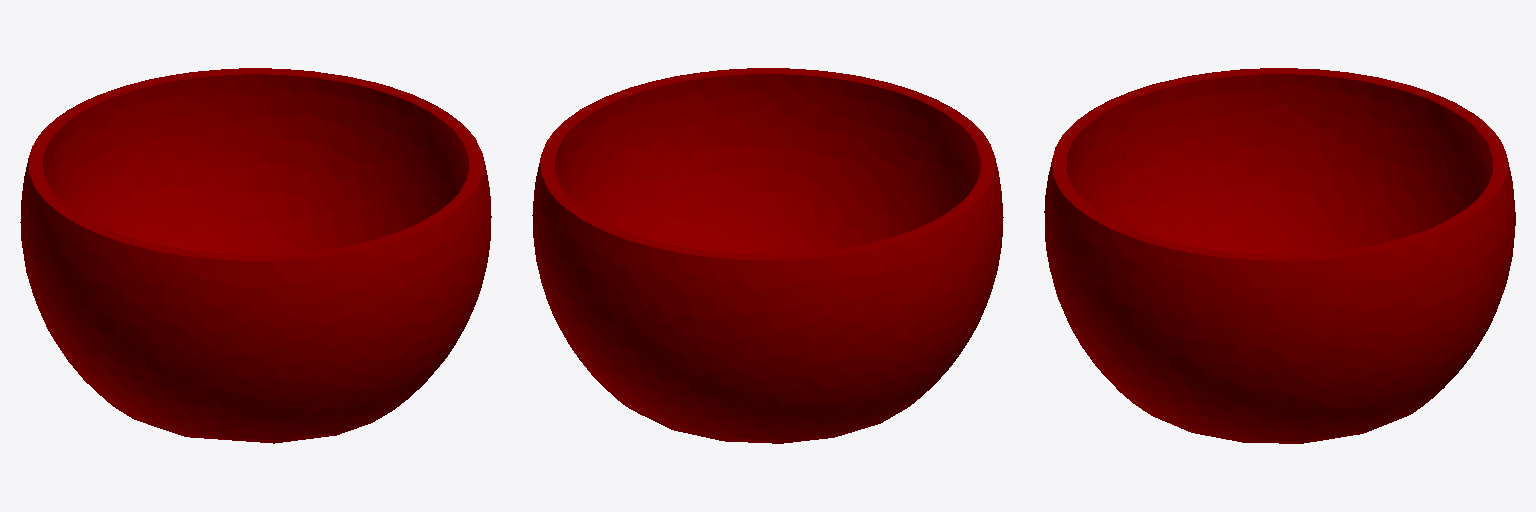
URDF robot description (dish):
<?xml version="1.0"?>
<robot name="dish">
    <link name="base_link">
        <visual>
          <origin rpy="0.0 0 0" xyz="0 0 0"/>
          <geometry>
            <mesh filename="reduced_candy-dish.stl"/>
          </geometry>
            <material name="red">
               <color rgba="0.6 0.0 0.0 1.0"/>
            </material>
        </visual>
        <collision concave="yes">
          <geometry>
            <mesh filename="reduced_candy-dish.stl"/>
          </geometry>
          <origin rpy="0.0 0 0" xyz="0 0 0"/>
        </collision>
        <inertial>
          <mass value="0.1"/>
          <inertia ixx="0.002" ixy="0.0" ixz="0.0" iyy="0.002" iyz="0.0" izz="0.002"/>
        </inertial>
    </link>
</robot>

--- Render facts (derived) ---
Views: 3 orthographic renders of the robot side by side, from view 1: azimuth 30°, elevation 25°; view 2: azimuth 150°, elevation 25°; view 3: azimuth 270°, elevation 25°.
Robot: dish — 1 links, 0 joints (none); root link base_link; default pose: all joints at 0.
Visible links, largest first — view 1: base_link; view 2: base_link; view 3: base_link.
Link boxes in pixels (bbox=[...]): base_link: bbox=[20, 68, 491, 443]; base_link: bbox=[532, 68, 1003, 443]; base_link: bbox=[1044, 68, 1515, 443].
Size in the robot's own frame: 0.1016 by 0.1015 by 0.0511 metres.
1 mesh visuals loaded from 1 distinct referenced files (1 binary STL).